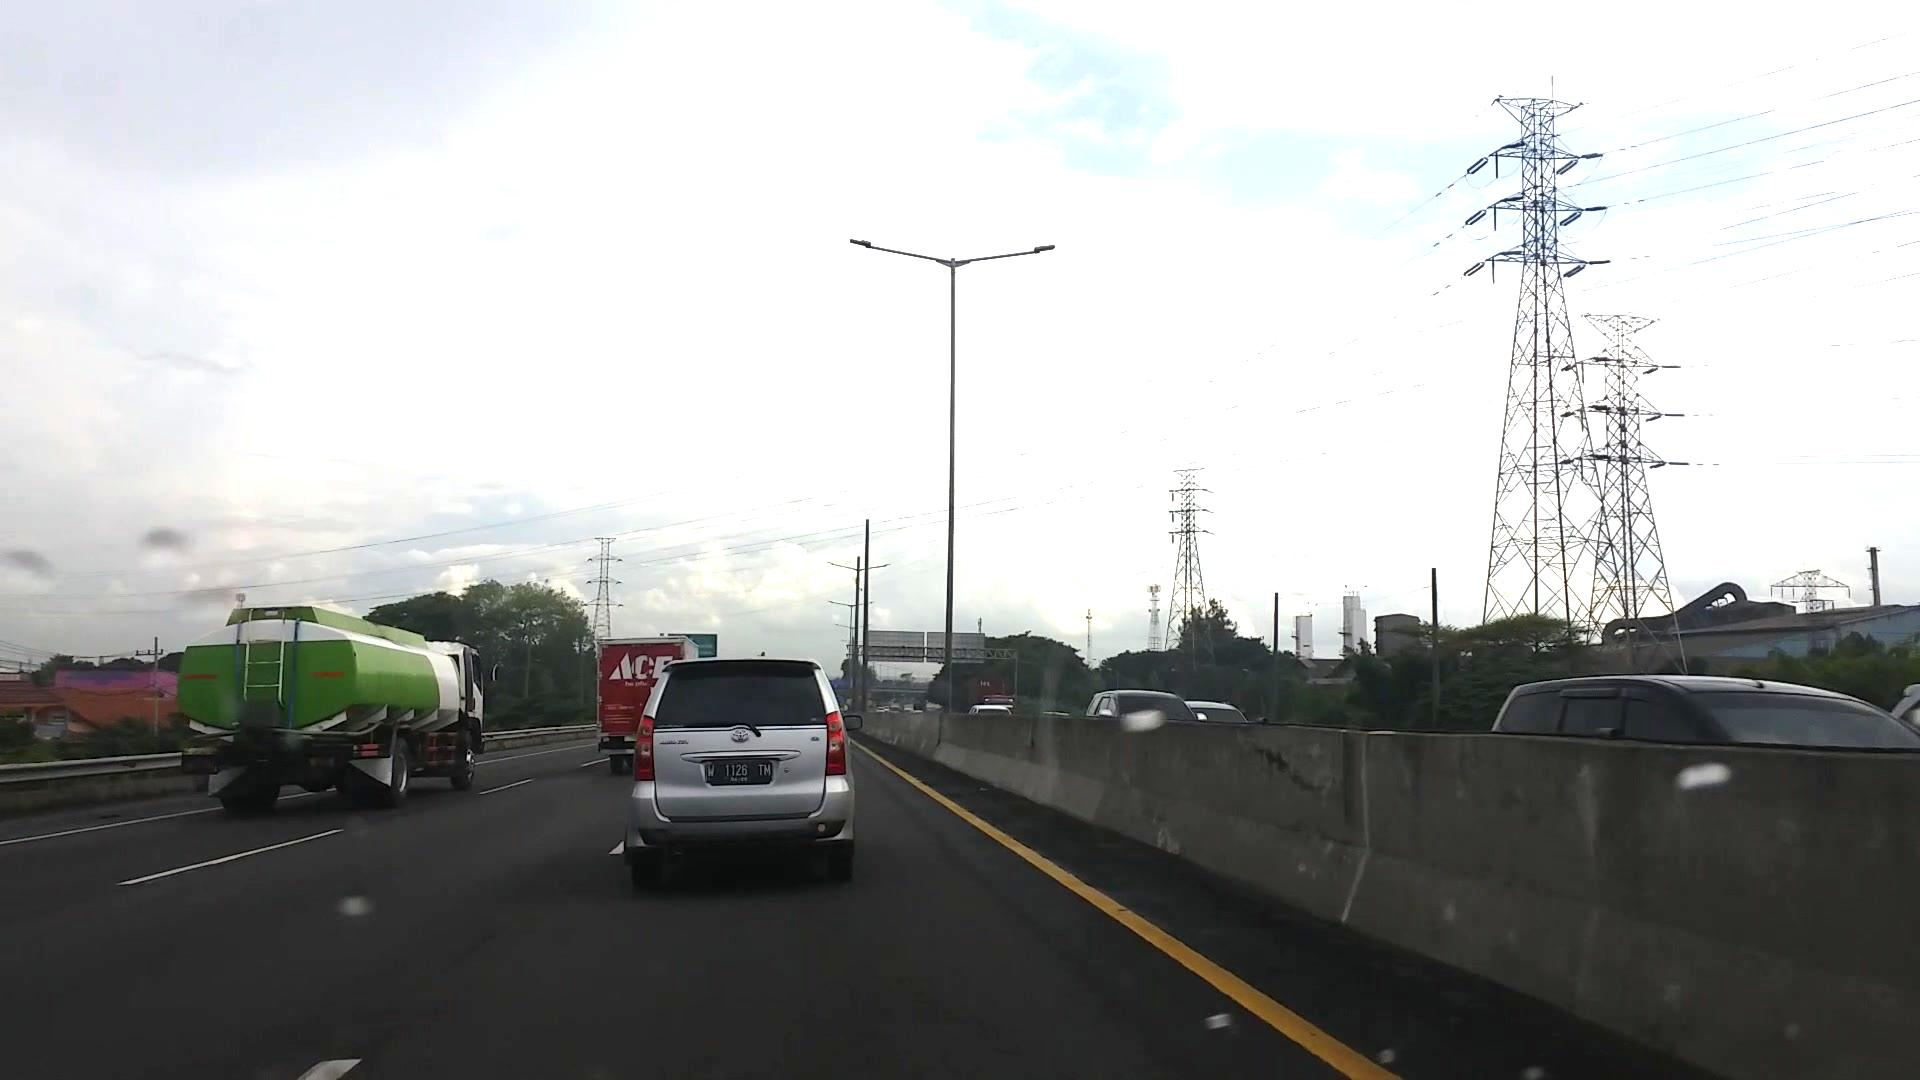plate_positive: (705, 761, 771, 785)
